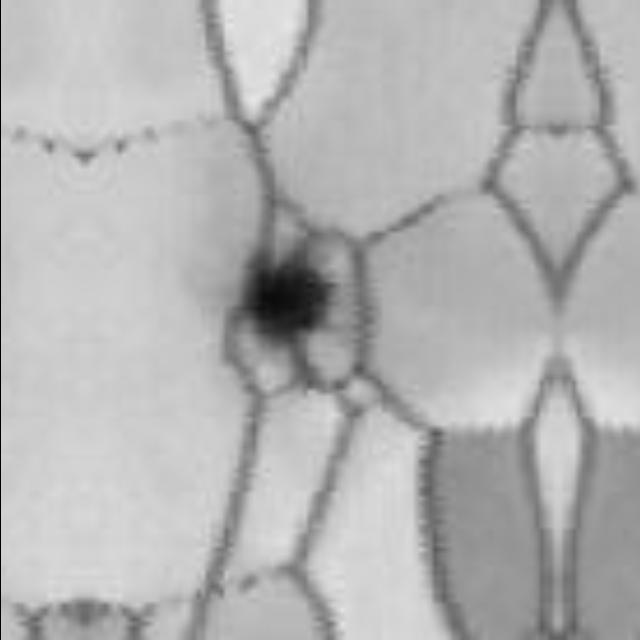good_void: (235, 249, 336, 359)
